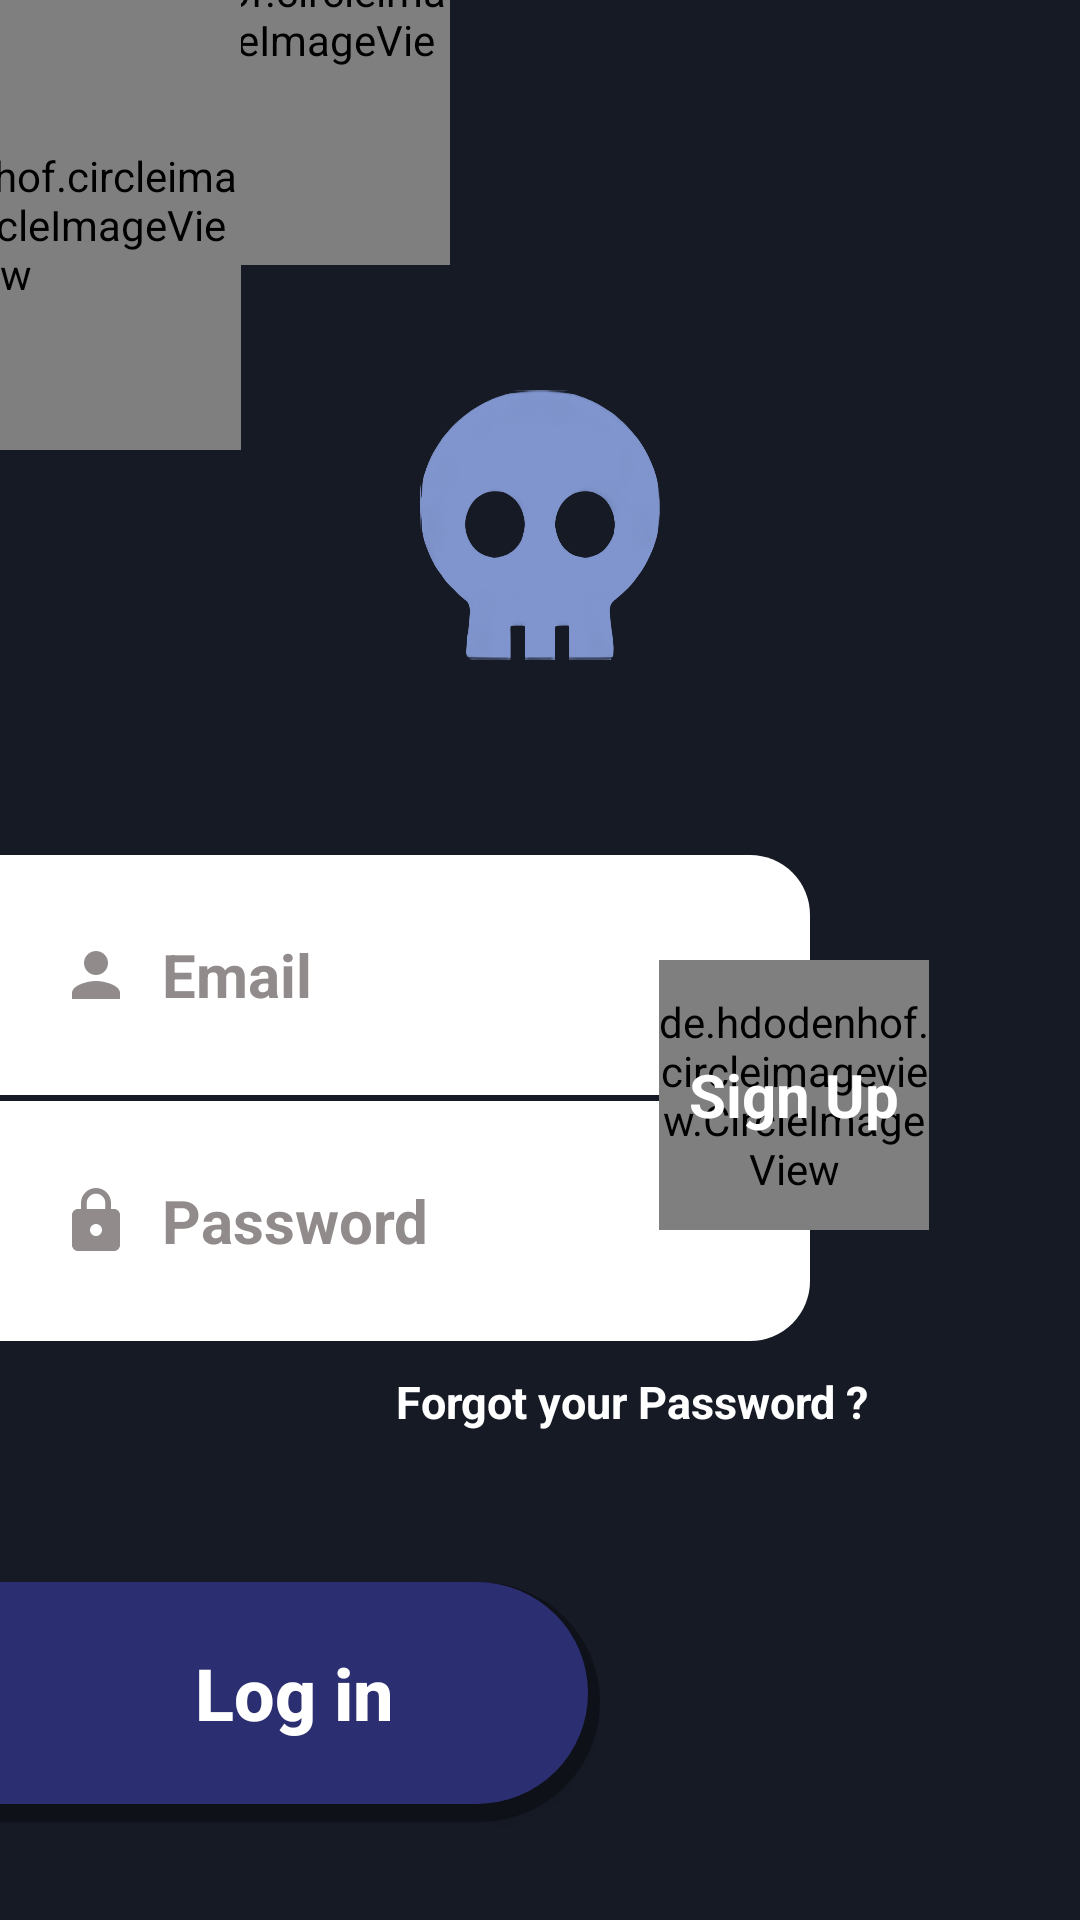

Icon bounding boxes for this 1080px x 1920px phone screenshot, format [left=x1, top=y1, right=x2, bottom=y2]:
skull: [left=420, top=390, right=660, bottom=660]
